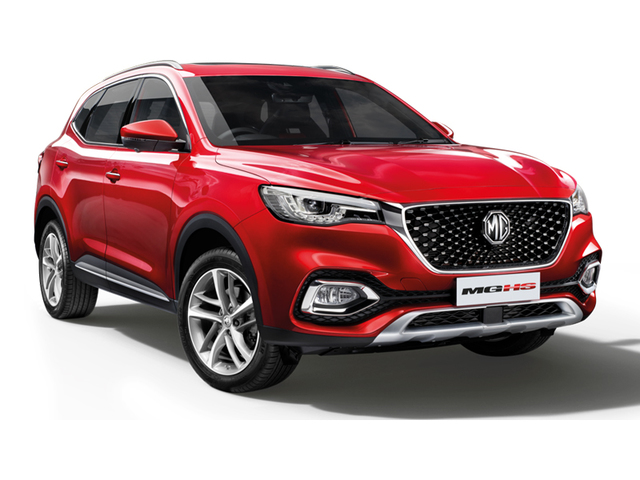pickup: (30, 58, 605, 393)
